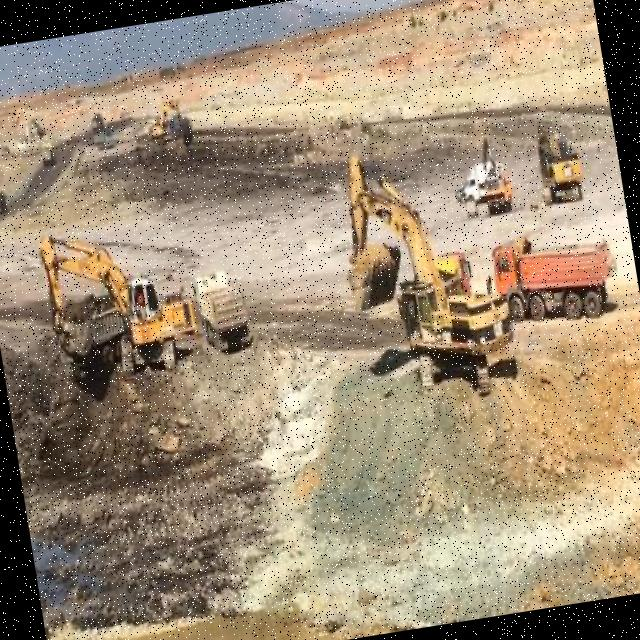Dump Truck: (486, 216, 626, 336), (188, 271, 256, 354), (80, 303, 124, 368), (481, 172, 516, 216)
Excavator: (324, 138, 520, 414), (24, 215, 205, 406), (531, 118, 586, 212)
